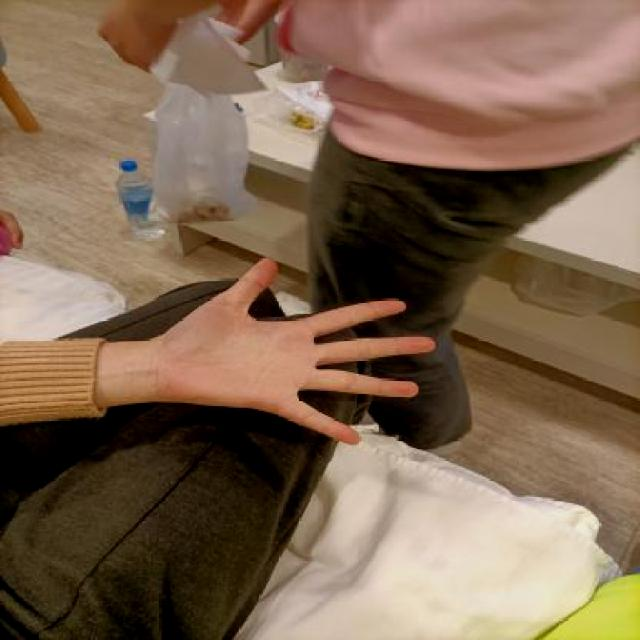no_glove: (118, 241, 440, 456)
